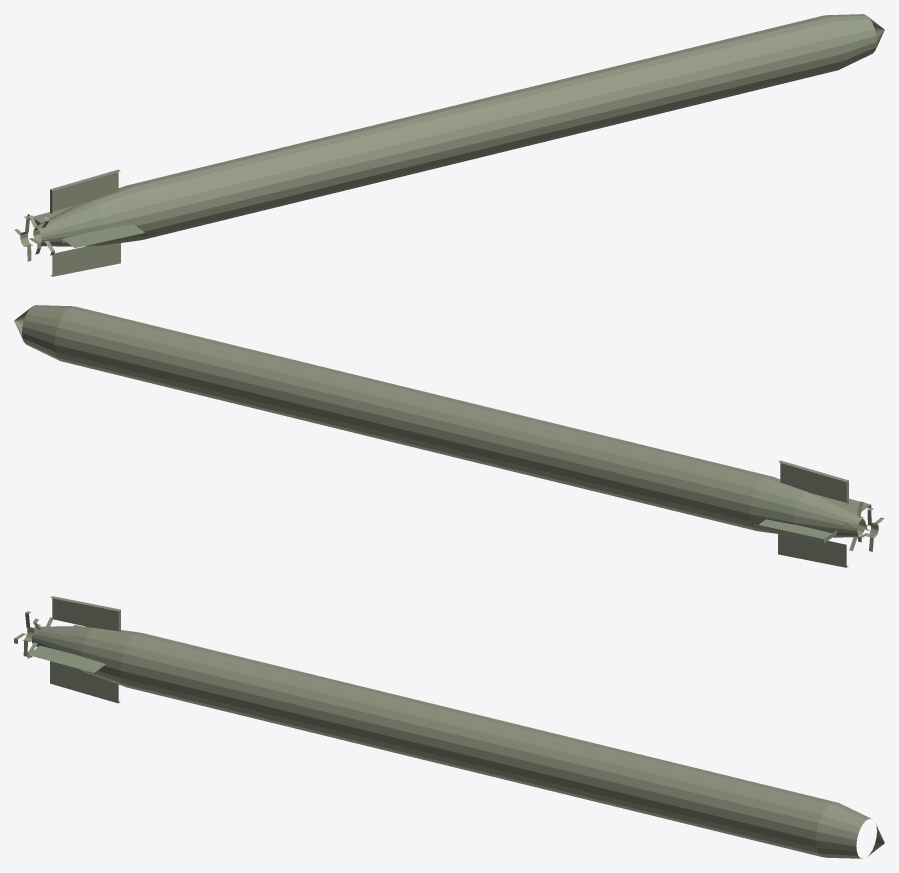
File: 65-76A_Kit_review.glb
3 views of the same model, one above another, from view 1: azimuth 30°, elevation 25°; view 2: azimuth 150°, elevation 25°; view 3: azimuth 330°, elevation 25° (orthographic).
Visible parts, largest first — view 1: SM_65-76A_Kit_Draft; view 2: SM_65-76A_Kit_Draft; view 3: SM_65-76A_Kit_Draft.
Boxes of the visible parts, x1,y1,x2,y2 form: SM_65-76A_Kit_Draft: [14, 14, 884, 276]; SM_65-76A_Kit_Draft: [14, 305, 884, 567]; SM_65-76A_Kit_Draft: [14, 596, 884, 858].
Bounding box in the file's own units: 11.31 × 1.16 × 1.16.
